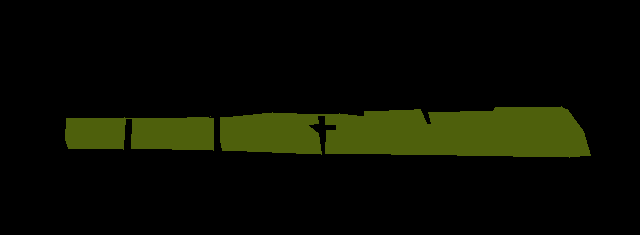Train: (65, 106, 590, 158)
